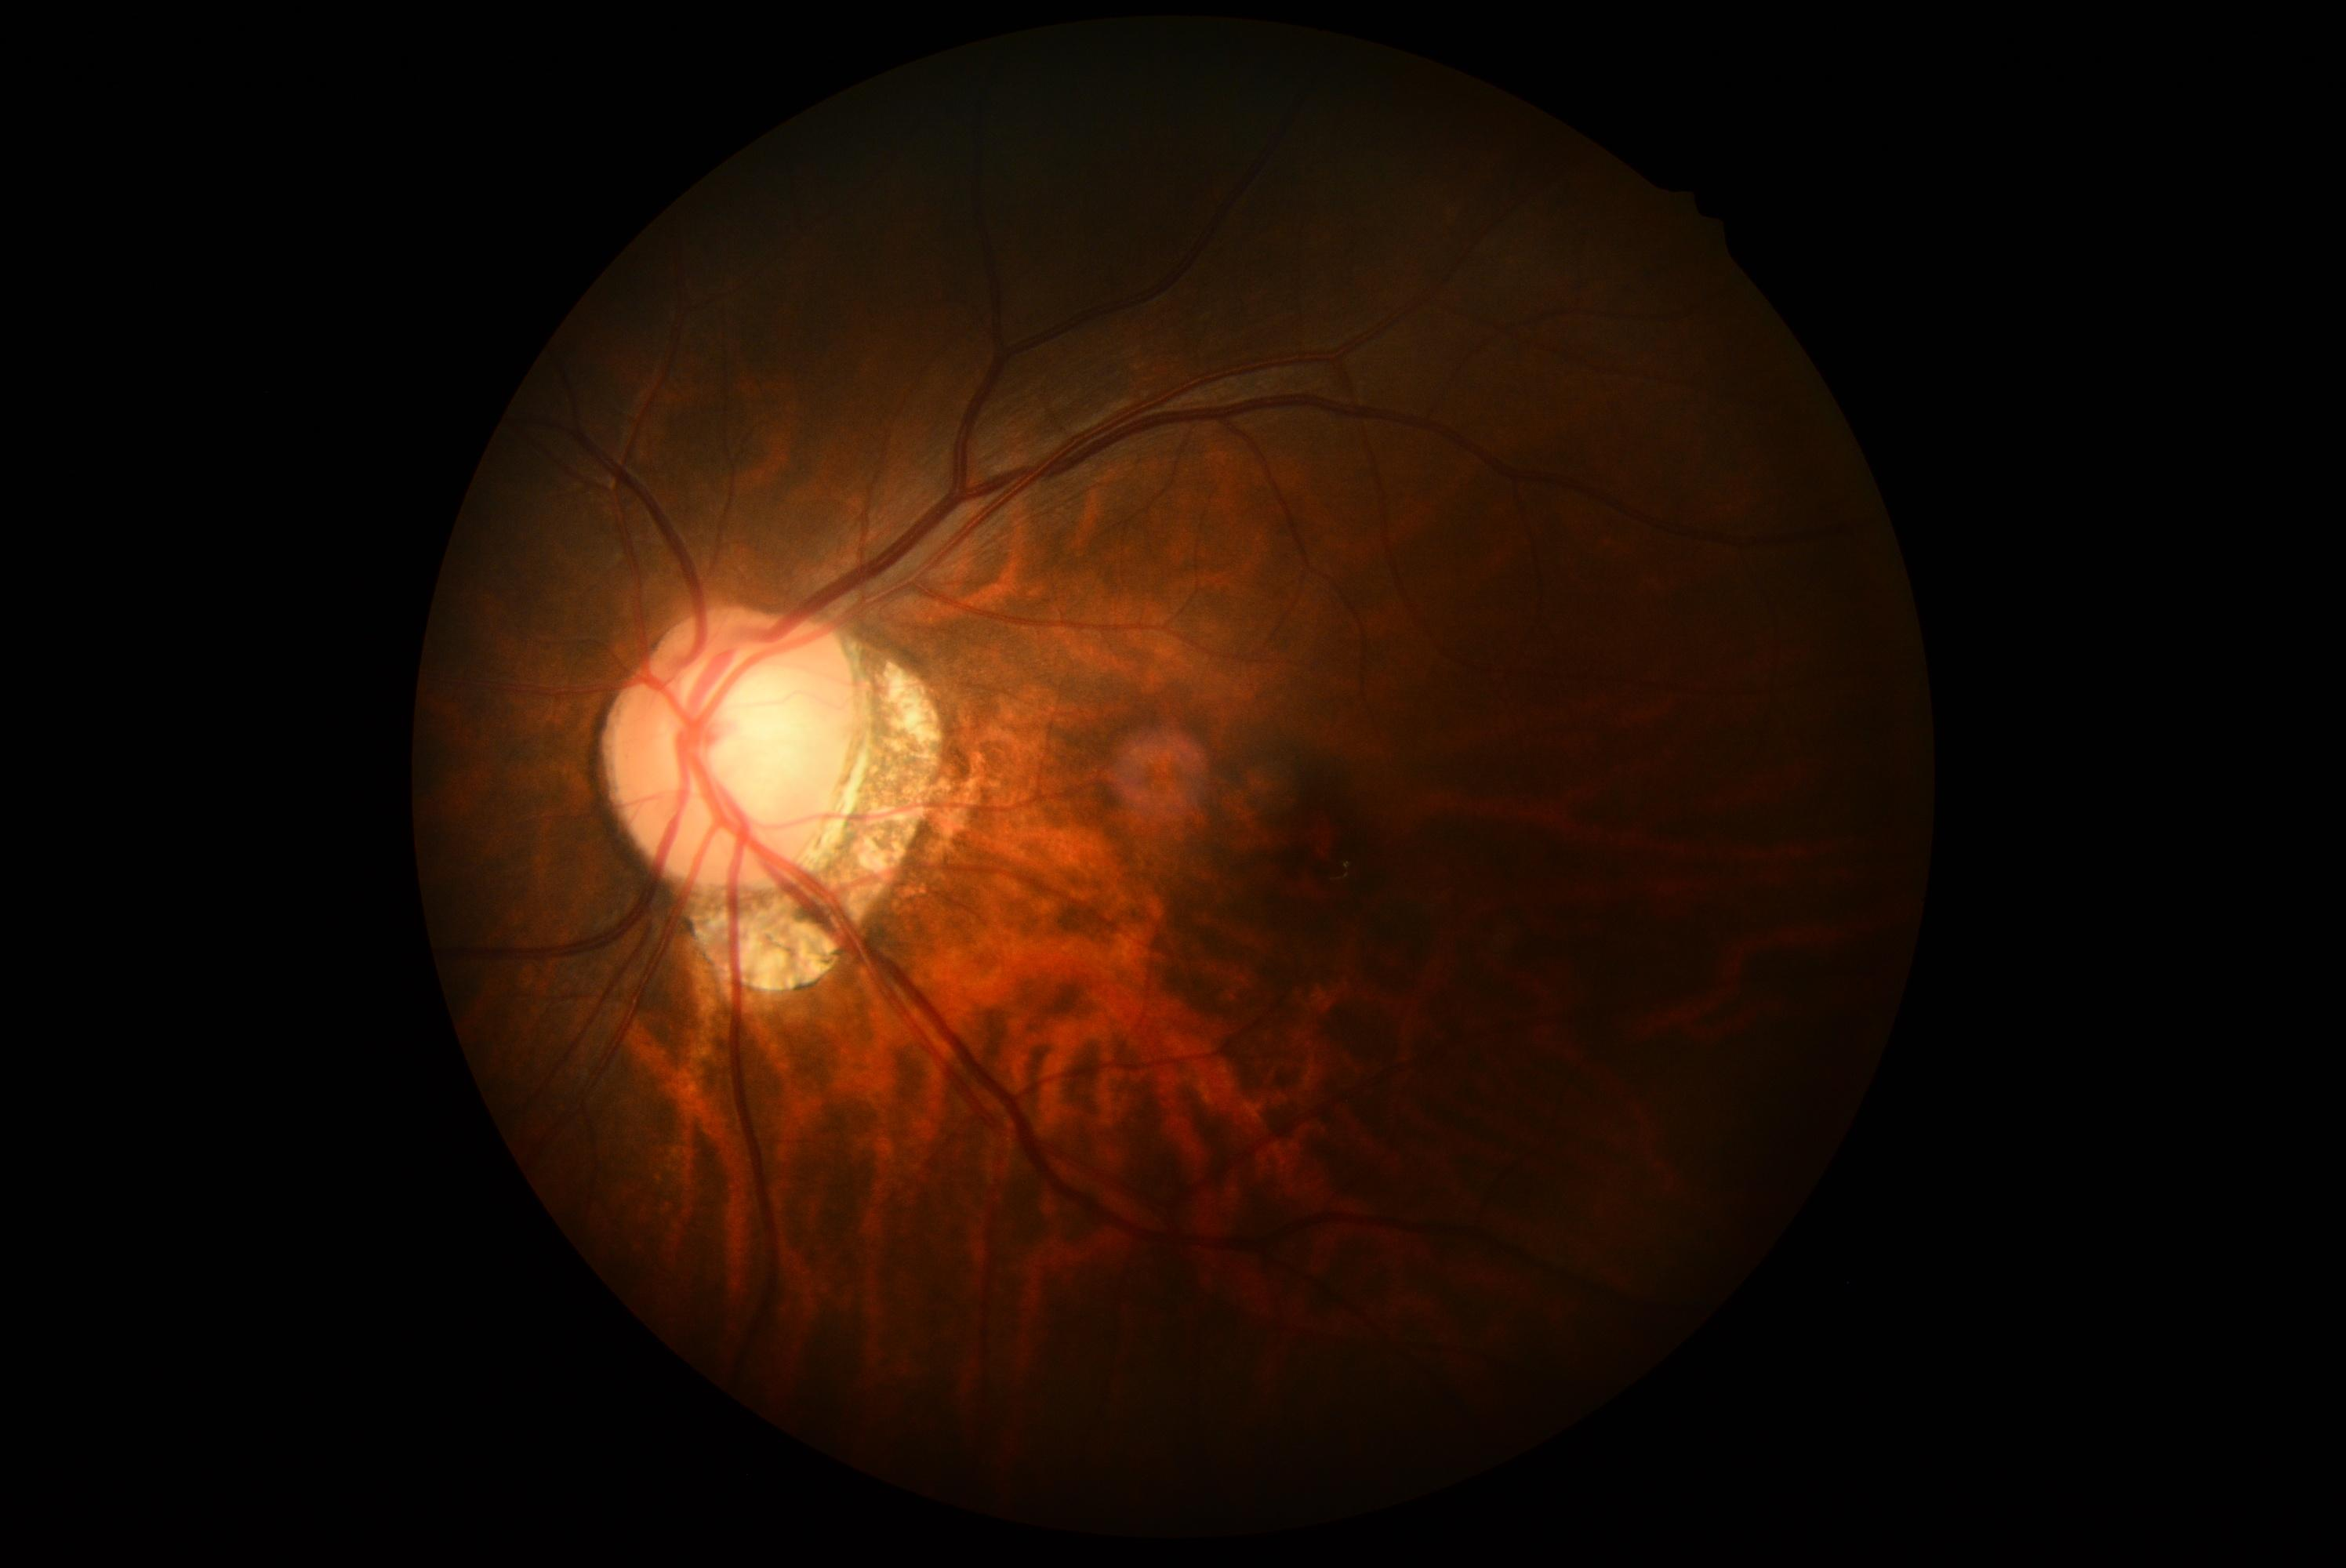Fovea: (1237, 777, 1394, 931)
